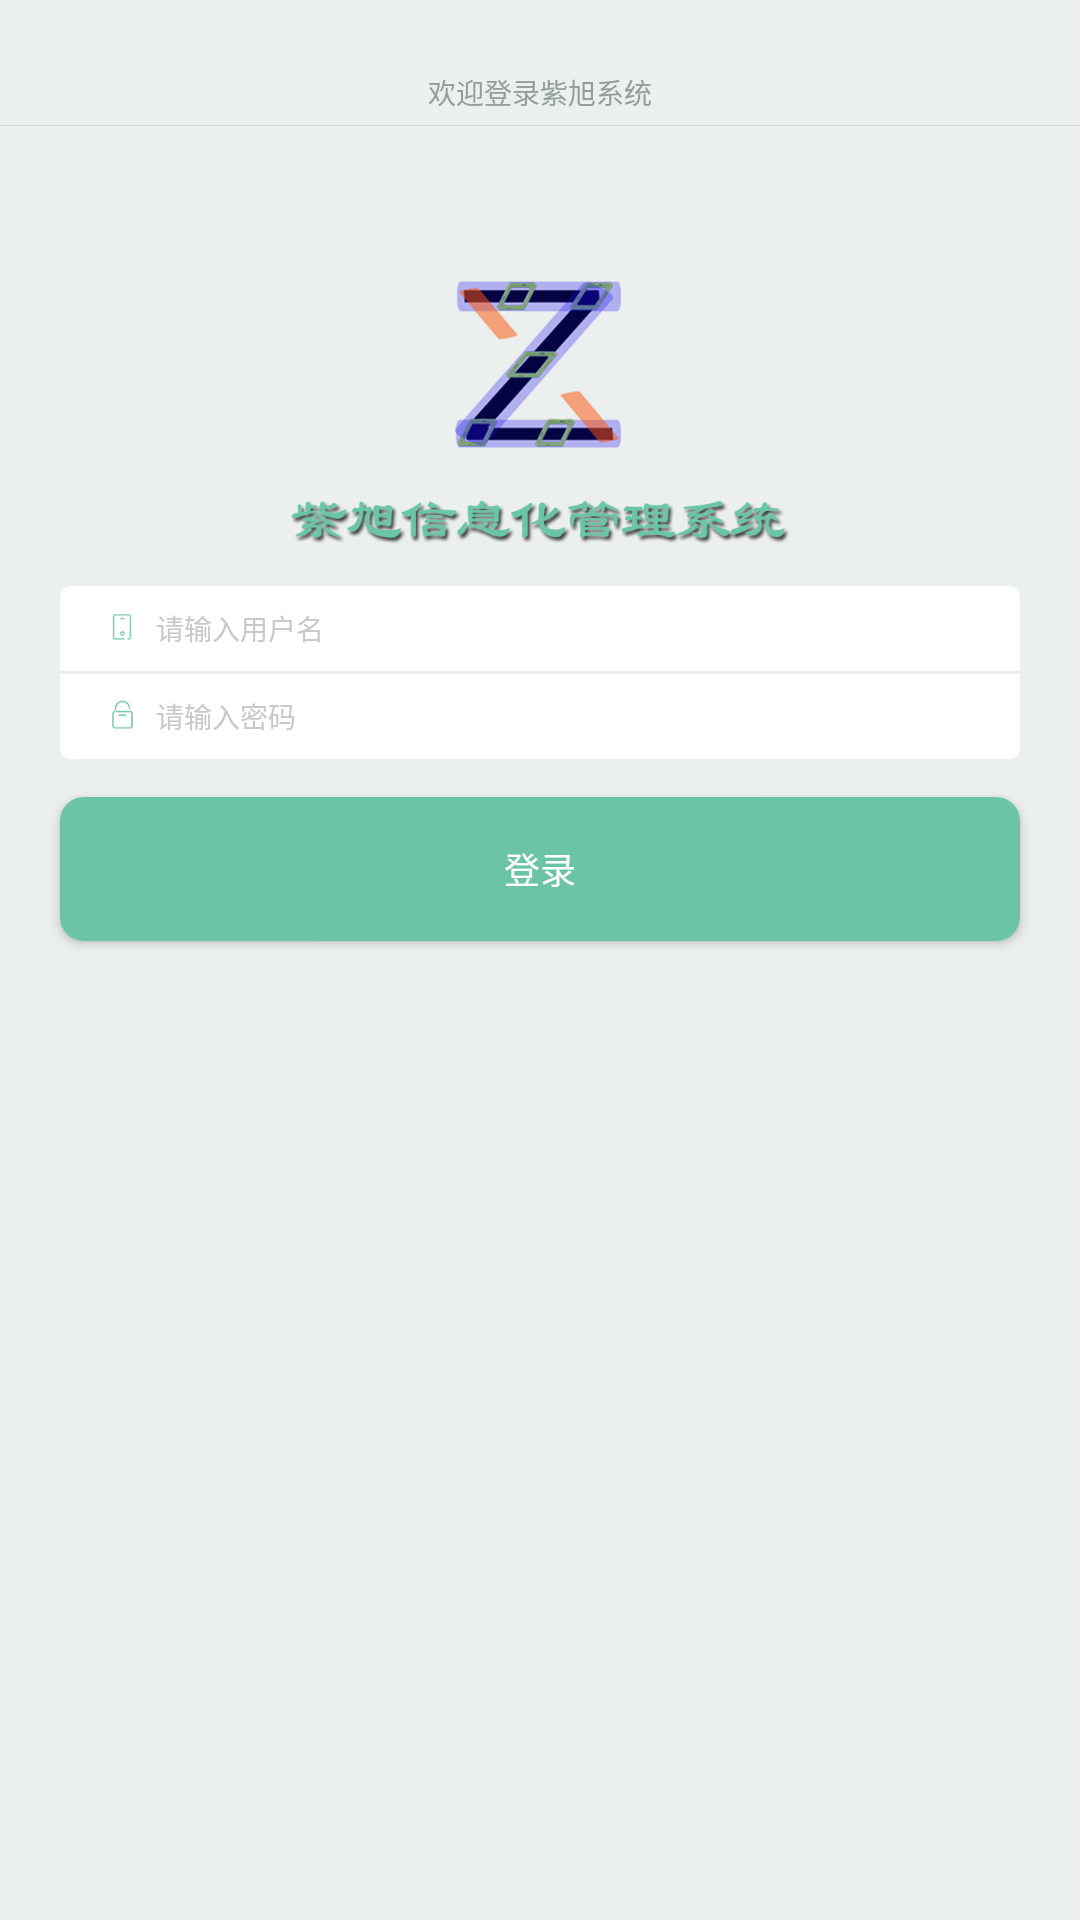

Point at icon controls on the screen. Image size 1080 × 1920, points as [x,y].
phone: [122,627]
